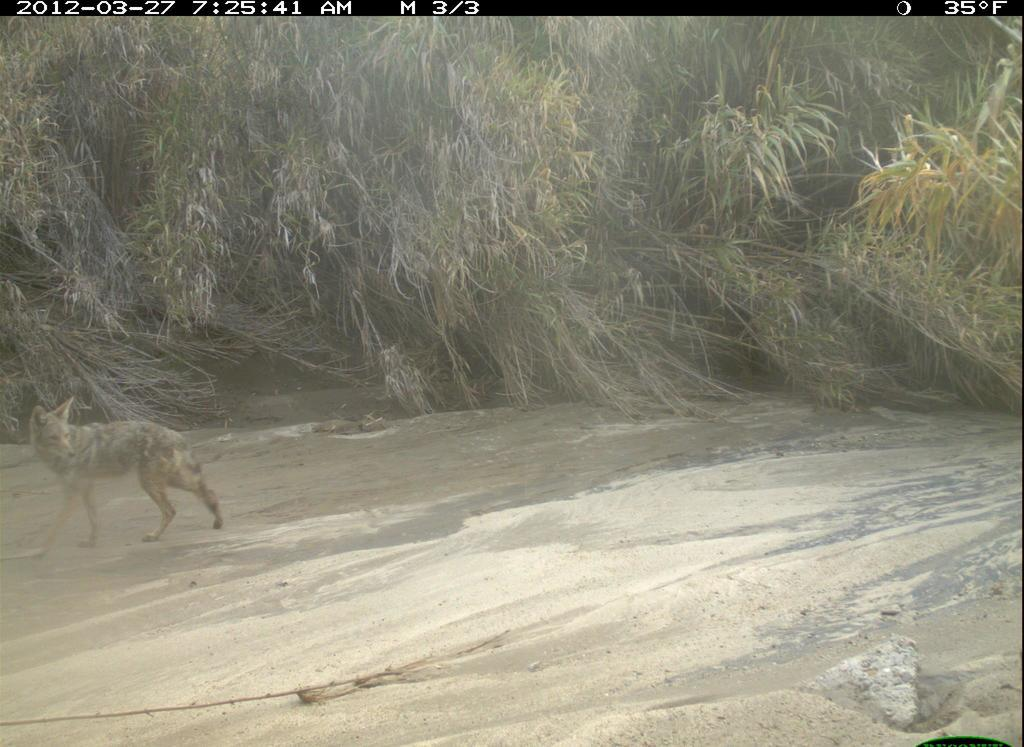coyote: (25, 381, 231, 566)
